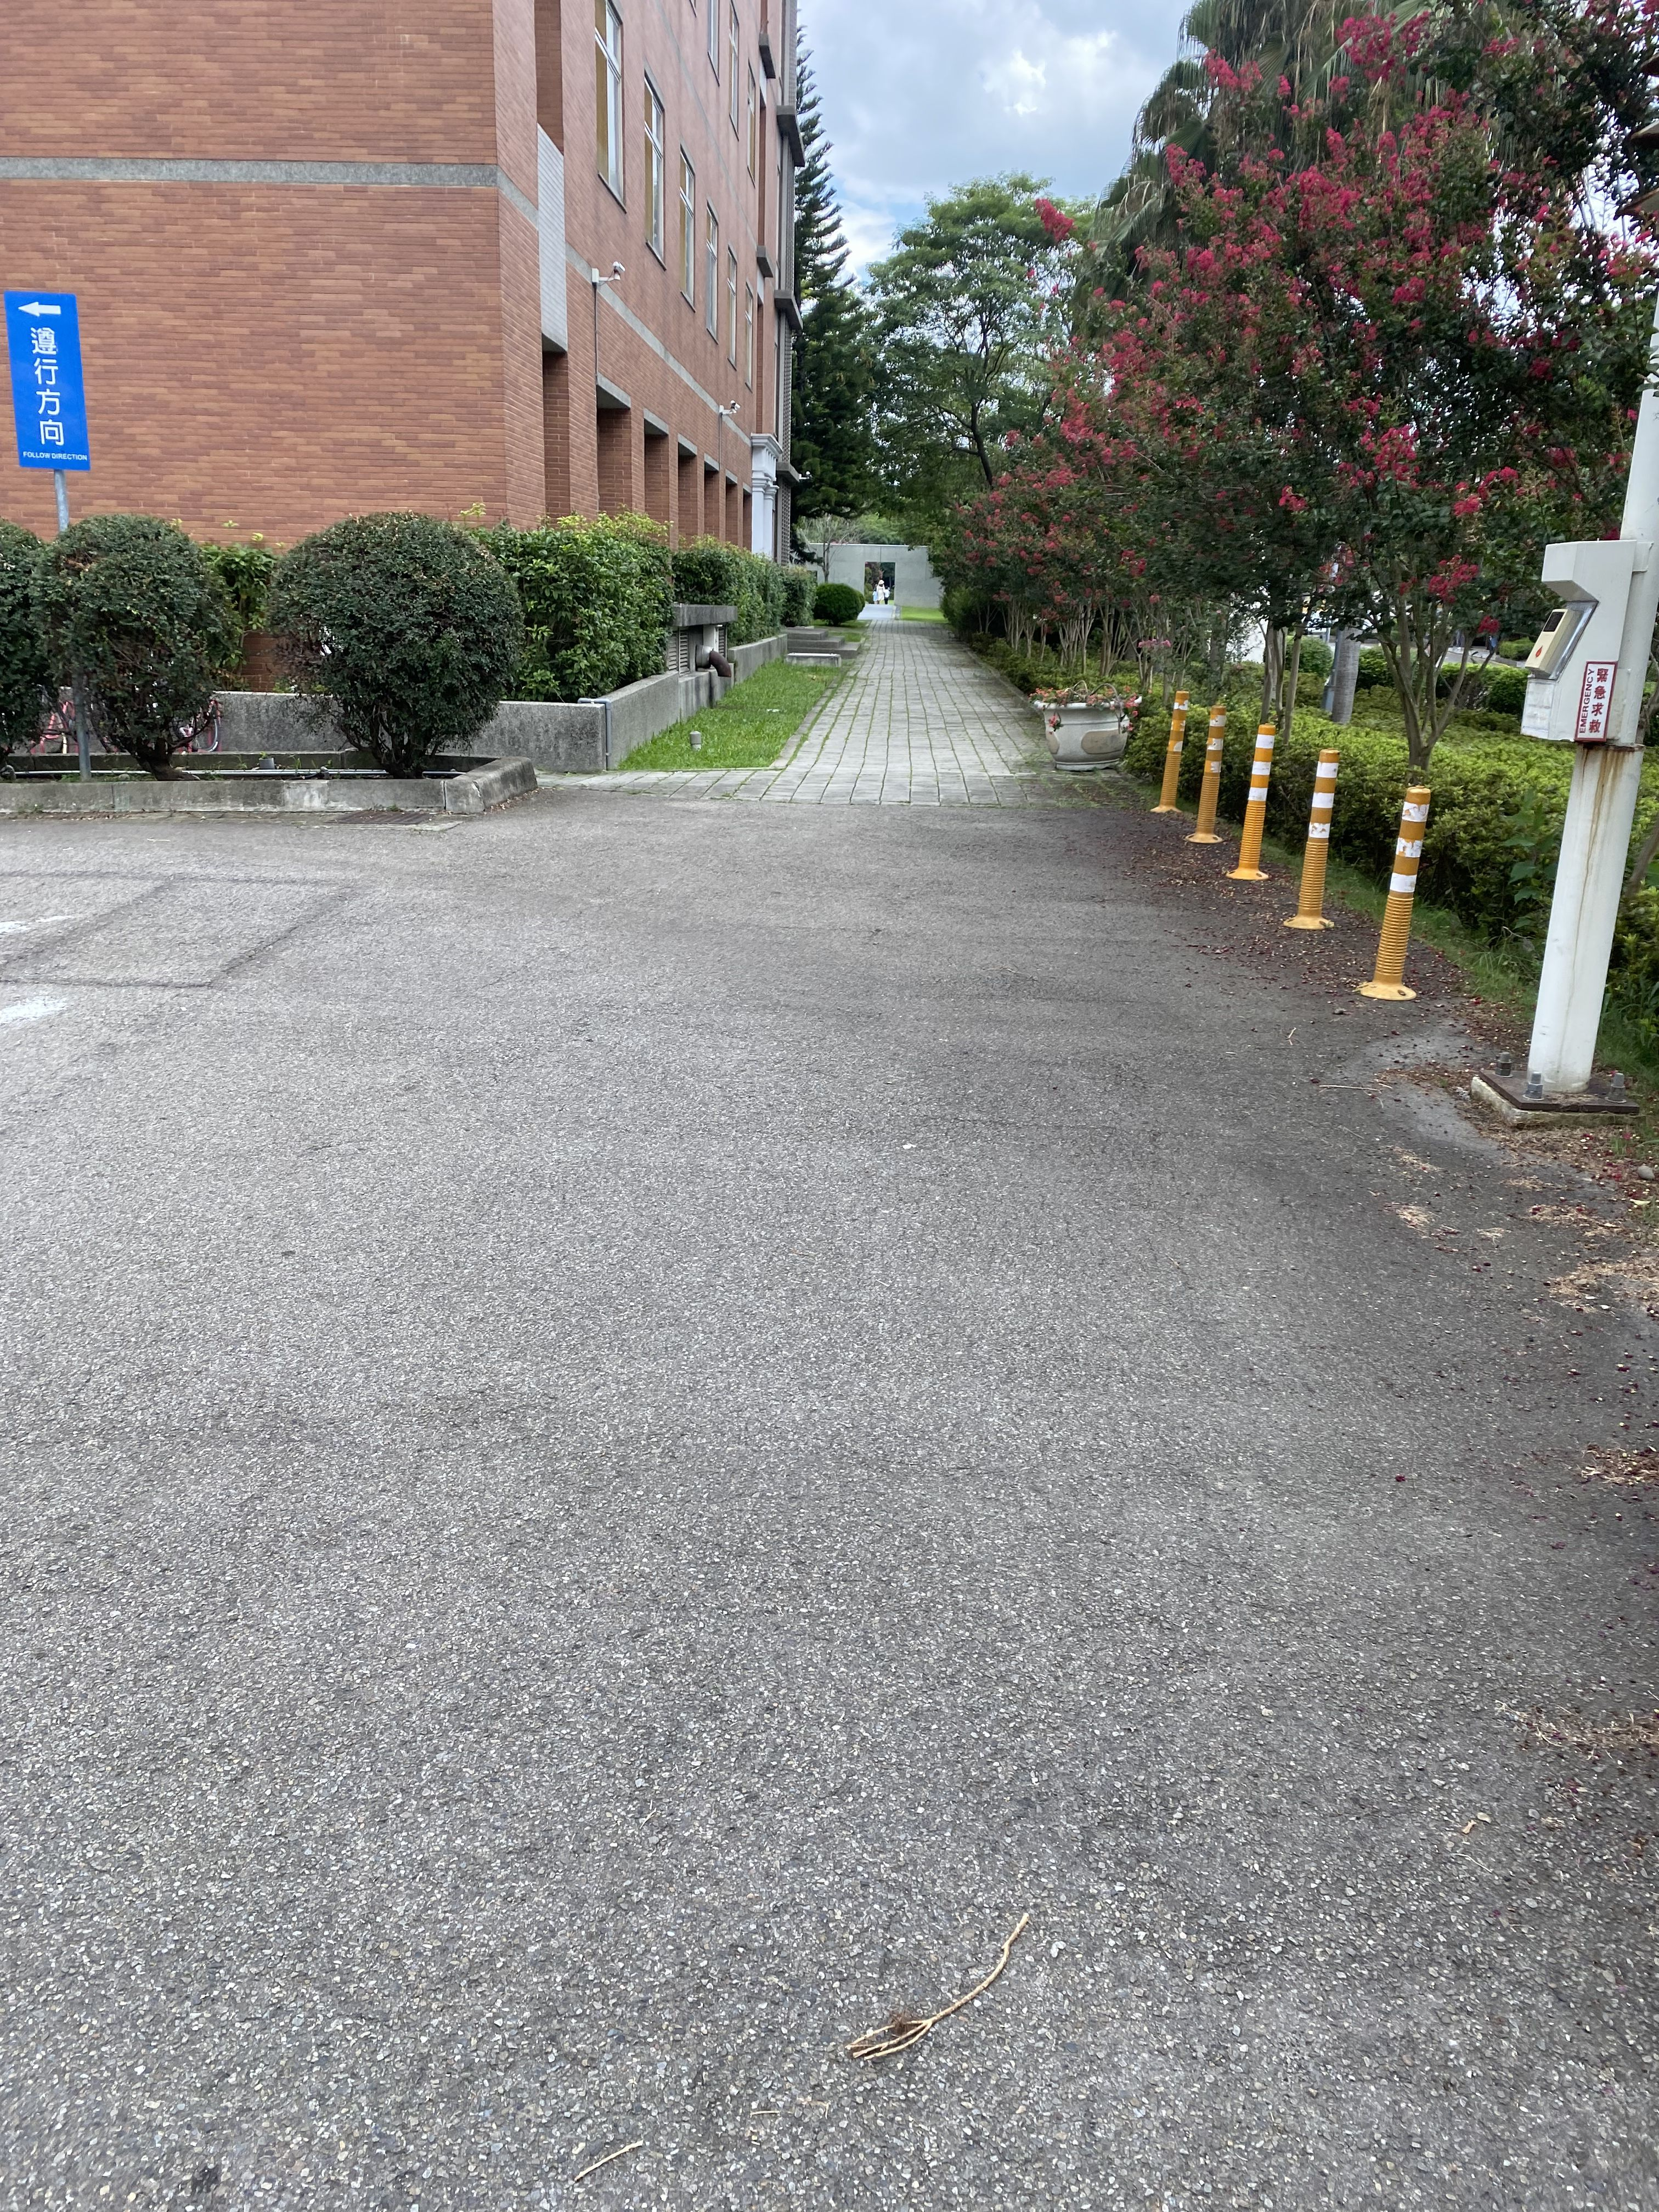0: (563, 770, 1495, 2212)
sidewalk: (758, 573, 1087, 888)
